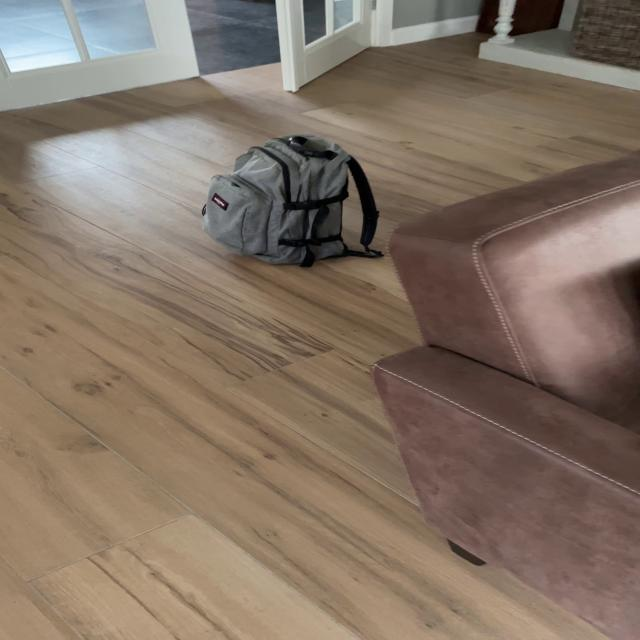backpack: (190, 129, 377, 269)
